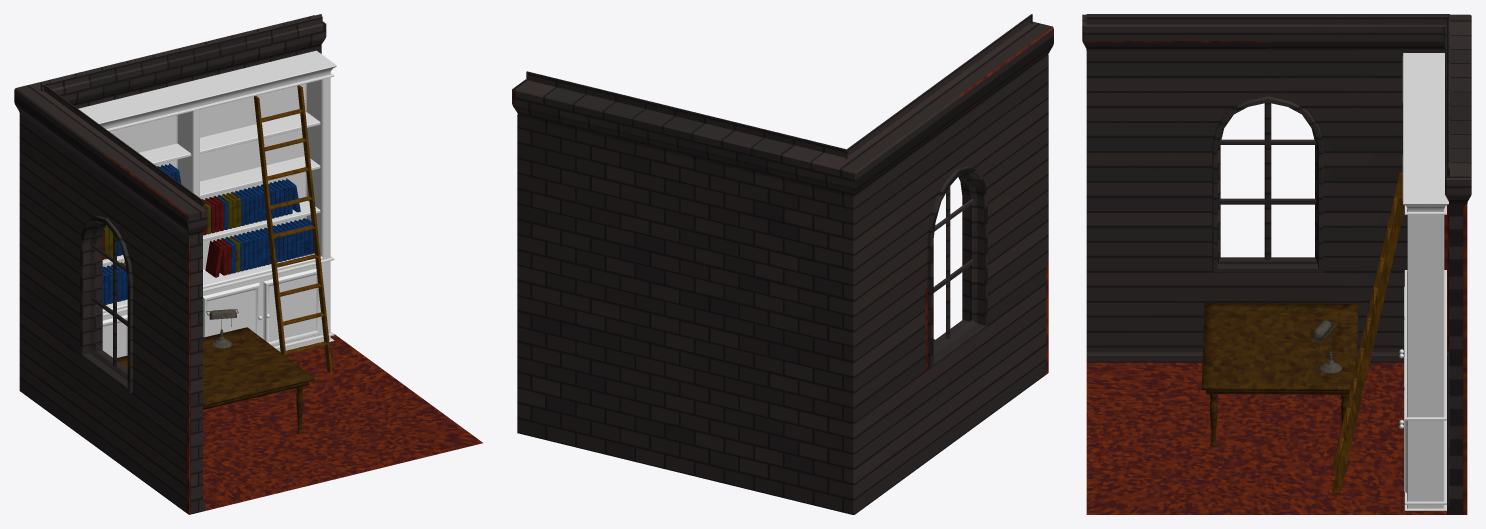
File: Biblioteca.fbx
The picture shows the model from 3 angles, left to right: view 1: azimuth 30°, elevation 25°; view 2: azimuth 150°, elevation 25°; view 3: azimuth 270°, elevation 25°; orthographic projection. The views are drawn at different scales.
Parts seen in each view (by area): view 1: Estructura, Estanteria, Libros, Mesa, Escalera; view 2: Estructura; view 3: Estructura, Estanteria, Mesa, Escalera, Lampara.
Boxes of the visible parts, x1,y1,x2,y2 form: Estructura: (14,14,482,514); Estanteria: (78,50,336,357); Libros: (102,163,314,304); Mesa: (117,327,314,433); Escalera: (254,85,332,373); Estructura: (512,14,1053,514); Estructura: (1082,14,1471,514); Estanteria: (1399,53,1448,510); Mesa: (1201,303,1358,446); Escalera: (1332,172,1404,492); Lampara: (1311,320,1342,373).
Bounding box in the file's own units: 134 × 132 × 134.
